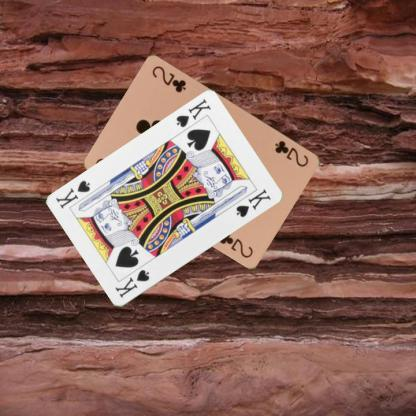2c: (272, 138, 310, 168)
Ks: (173, 96, 212, 130), (112, 267, 151, 299)
